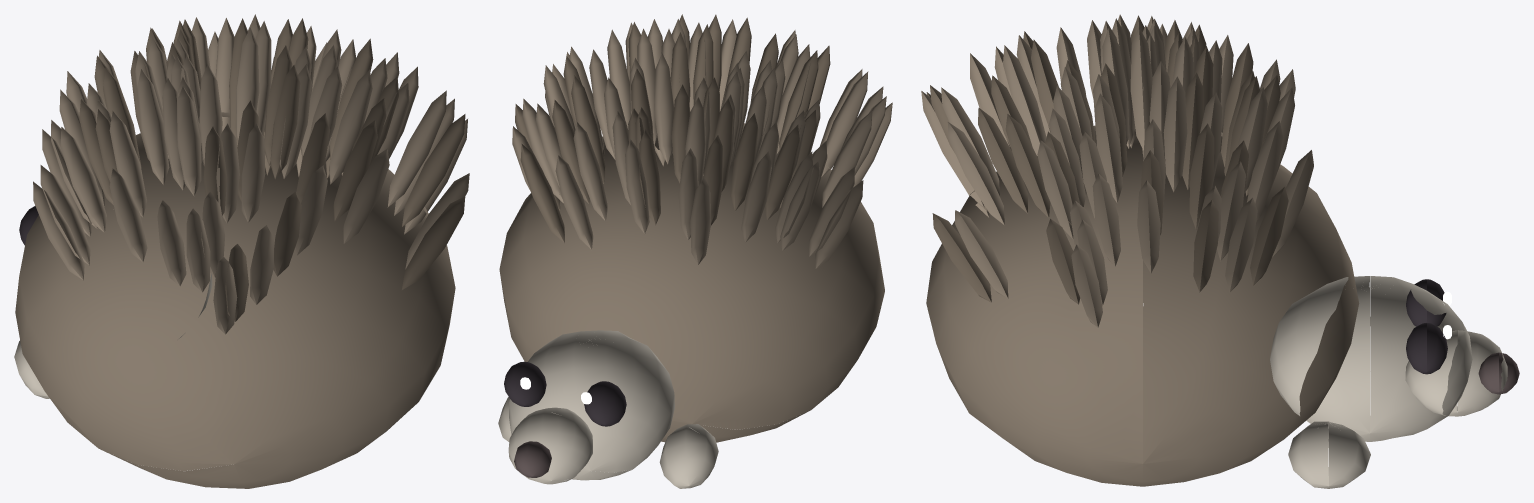
Rendered from ally_hedgehog.glb.
The picture shows the model from 3 angles, left to right: view 1: azimuth 30°, elevation 25°; view 2: azimuth 150°, elevation 25°; view 3: azimuth 270°, elevation 25°; orthographic projection. The views are drawn at different scales.
Visible parts, largest first — view 1: chinchilla; view 2: chinchilla; view 3: chinchilla.
Part boxes in pixels (x1,y1,x2,y2): chinchilla: (14,14,469,488); chinchilla: (498,14,892,488); chinchilla: (921,14,1519,488).
Bounding box in the file's own units: 0.4359 × 0.4452 × 0.5799.
